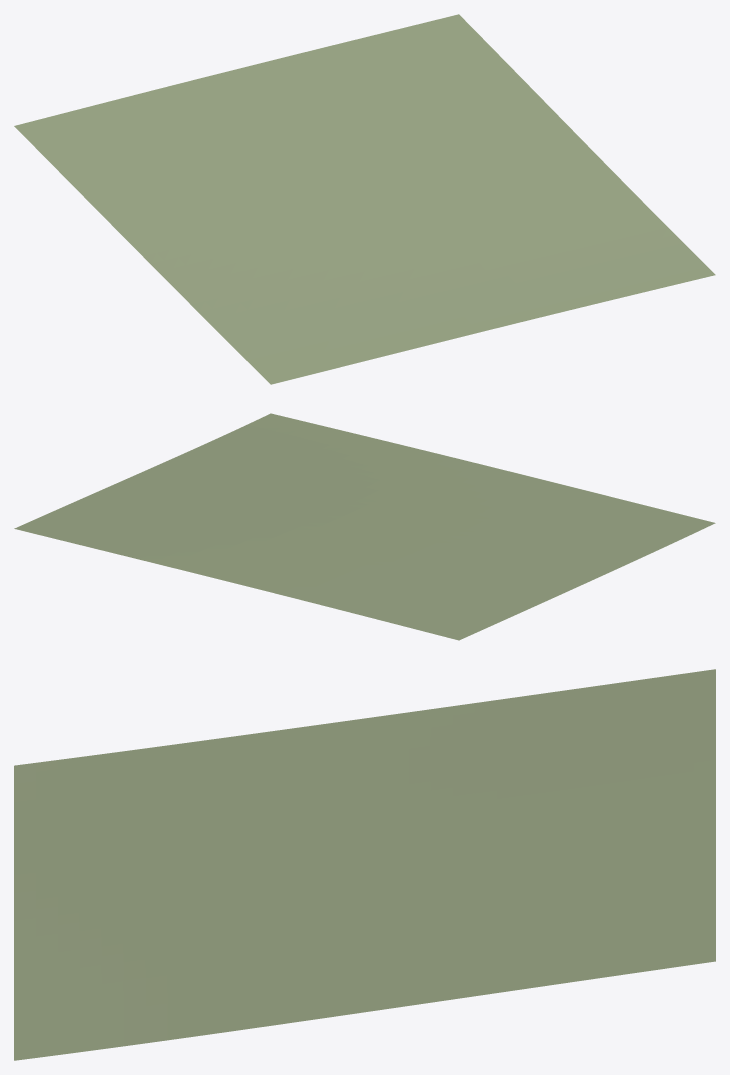
The model's file is desert-26-11.glb.
3 renders of one model, top to bottom at view 1: azimuth 30°, elevation 25°; view 2: azimuth 150°, elevation 25°; view 3: azimuth 270°, elevation 25°, orthographic. The views are drawn at different scales.
Parts seen in each view (by area): view 1: desert-26-11; view 2: desert-26-11; view 3: desert-26-11.
Part boxes in pixels (box(x1,y1,x2,y2)): desert-26-11: box(14, 14, 715, 384); desert-26-11: box(14, 413, 715, 640); desert-26-11: box(14, 669, 715, 1060).
Size of the model in its own units: 512 by 81.11 by 512.
